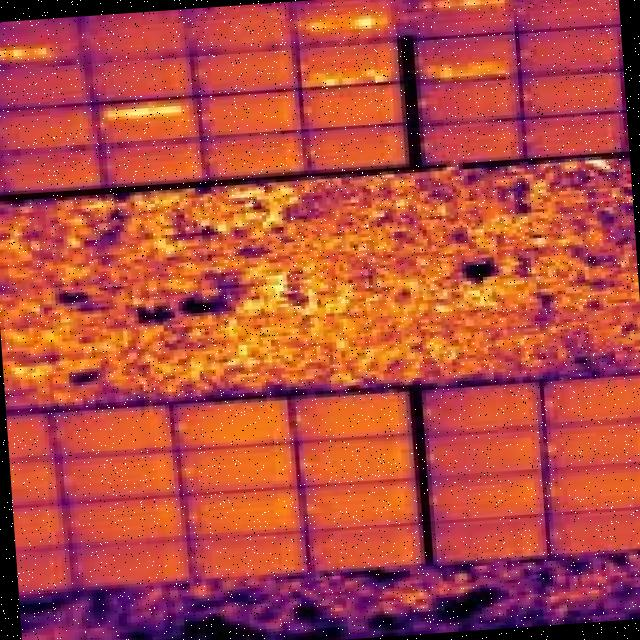Hotspot: (103, 102, 185, 124), (464, 60, 501, 76), (427, 64, 456, 78), (309, 72, 338, 86), (462, 0, 508, 8), (418, 0, 455, 8), (366, 68, 387, 82), (8, 49, 30, 60), (354, 18, 371, 29), (310, 21, 326, 32), (33, 47, 50, 55), (0, 50, 5, 57)
